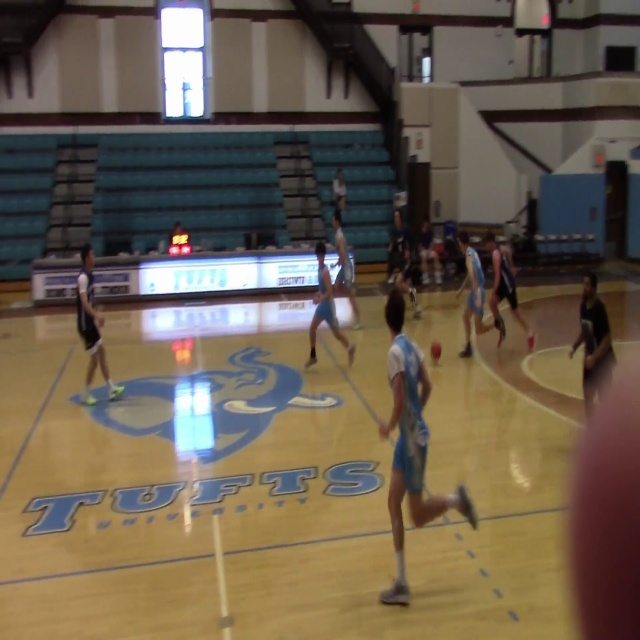Basketball: (430, 342, 441, 359)
